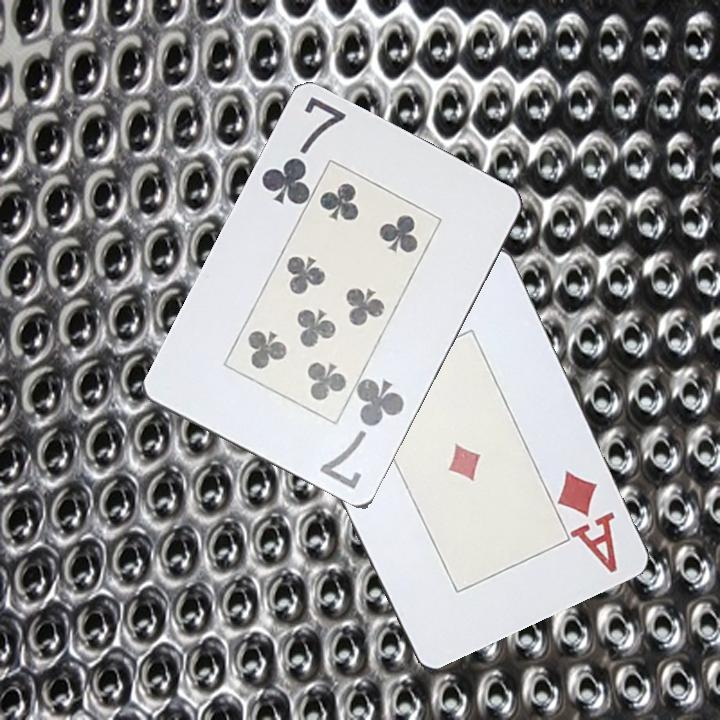7c: (257, 93, 350, 209), (317, 375, 408, 493)
Ad: (554, 466, 620, 576)
